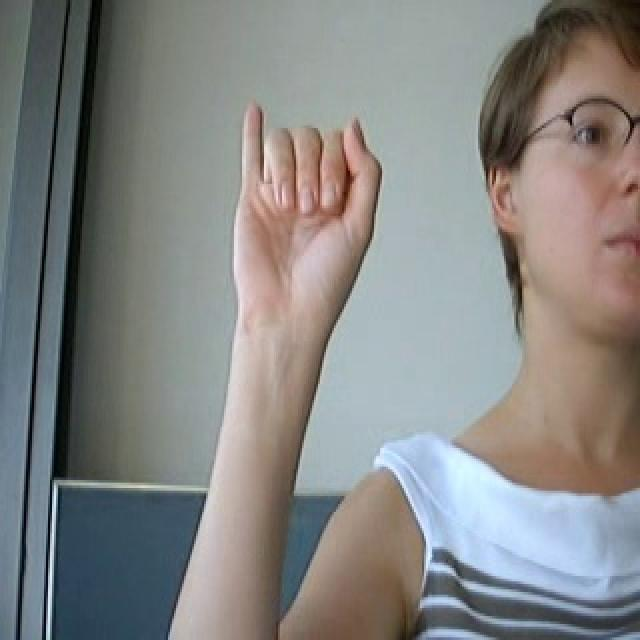I: (192, 77, 411, 361)
